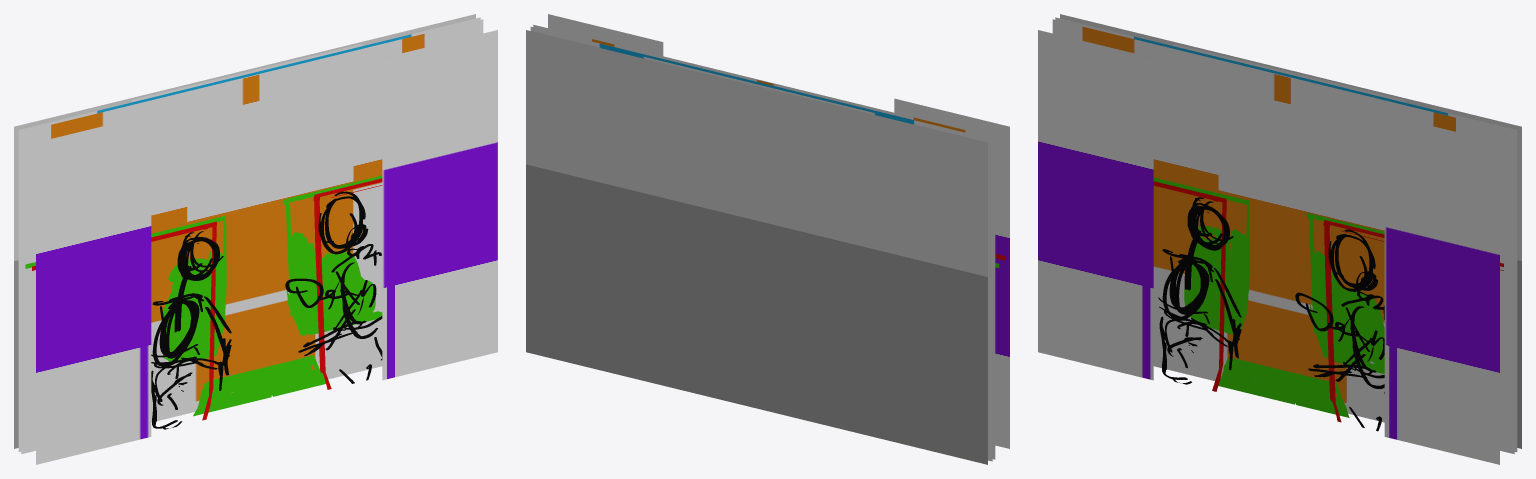
File: page11_01_A.fbx
3 views of the same model, side by side, from view 1: azimuth 30°, elevation 25°; view 2: azimuth 150°, elevation 25°; view 3: azimuth 330°, elevation 25° (orthographic).
Visible parts, largest first — view 1: firstrow, fourthrow, thirdrow, secondrow, horizon, fifthrow, backwindow; view 2: horizon, firstrow, fifthrow, fourthrow, backwindow; view 3: firstrow, fourthrow, thirdrow, secondrow, horizon, fifthrow, backwindow.
Part boxes in pixels (x1,y1,x2,y2): firstrow: [36, 30, 497, 464]; fourthrow: [21, 19, 483, 454]; thirdrow: [25, 175, 382, 416]; secondrow: [32, 178, 382, 429]; horizon: [14, 14, 475, 448]; fifthrow: [18, 17, 480, 452]; backwindow: [131, 43, 362, 102]; horizon: [526, 30, 987, 464]; firstrow: [548, 14, 1009, 448]; fifthrow: [530, 26, 992, 461]; fourthrow: [533, 24, 995, 459]; backwindow: [643, 57, 874, 114]; firstrow: [1038, 30, 1499, 464]; fourthrow: [1052, 19, 1514, 454]; thirdrow: [1153, 177, 1384, 417]; secondrow: [1153, 181, 1503, 431]; horizon: [1060, 14, 1521, 448]; fifthrow: [1055, 17, 1517, 452]; backwindow: [1173, 43, 1404, 102].
Bounding box in the file's own units: 173 × 115 × 14.14.
8 materials, 8 textured.
